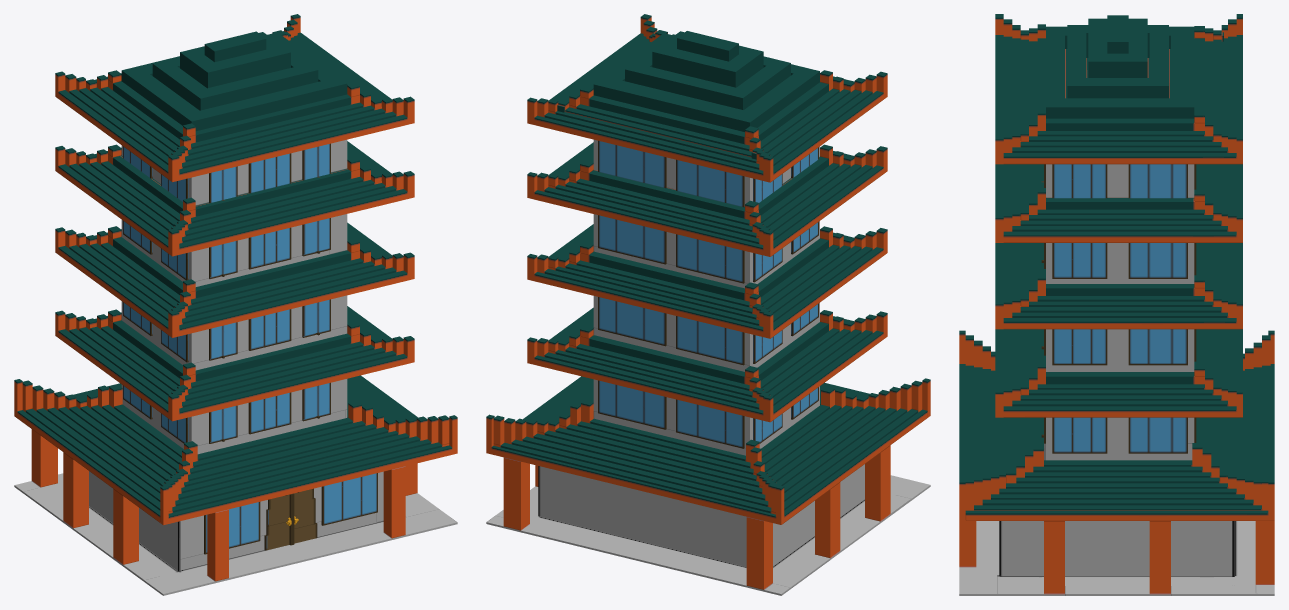
The model's file is house4.dae.
3 renders of one model, left to right at view 1: azimuth 30°, elevation 25°; view 2: azimuth 150°, elevation 25°; view 3: azimuth 270°, elevation 25°, orthographic. The views are drawn at different scales.
Parts seen in each view (by area): view 1: house4-local; view 2: house4-local; view 3: house4-local.
Part boxes in pixels (x1,y1,x2,y2): house4-local: (14, 14, 457, 595); house4-local: (486, 14, 930, 595); house4-local: (959, 14, 1274, 595).
Bounding box in the file's own units: 170 × 256 × 149.
Materials: 1 (1 with a texture image).
